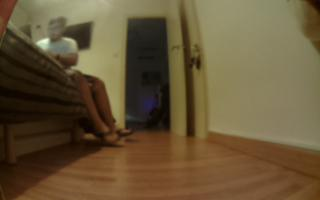person: (40, 15, 135, 149)
